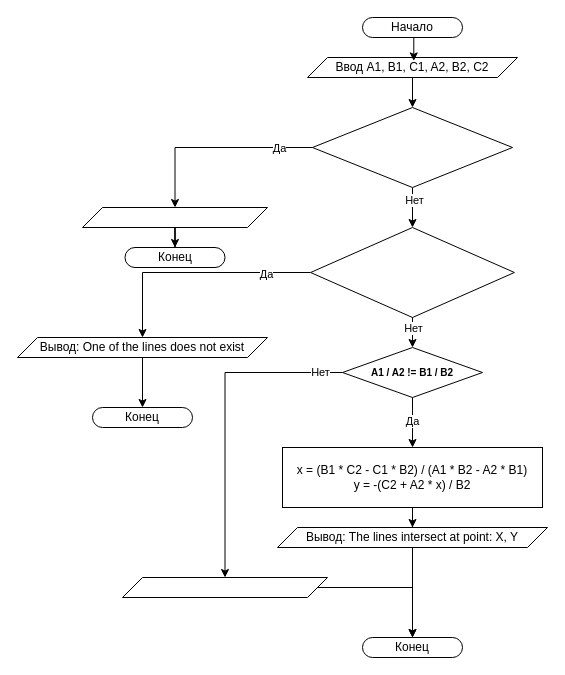
Image size: 565x675. Some labels were removed from this diagram. The shapes that lost their labels are listed below. From the top down, each one's centre as x and y in pixels, then its label:
the point at 412,147: A1 / A2 = B1 / B2 и A1 / A2 = C1 / C2
the point at 175,217: Вывод: the lines coincide
the point at 412,272: A1 = 0.0 и B1 = 0.0 или A2 = 0.0 и B2 = 0.0
the point at 225,587: Вывод: Algorith error
